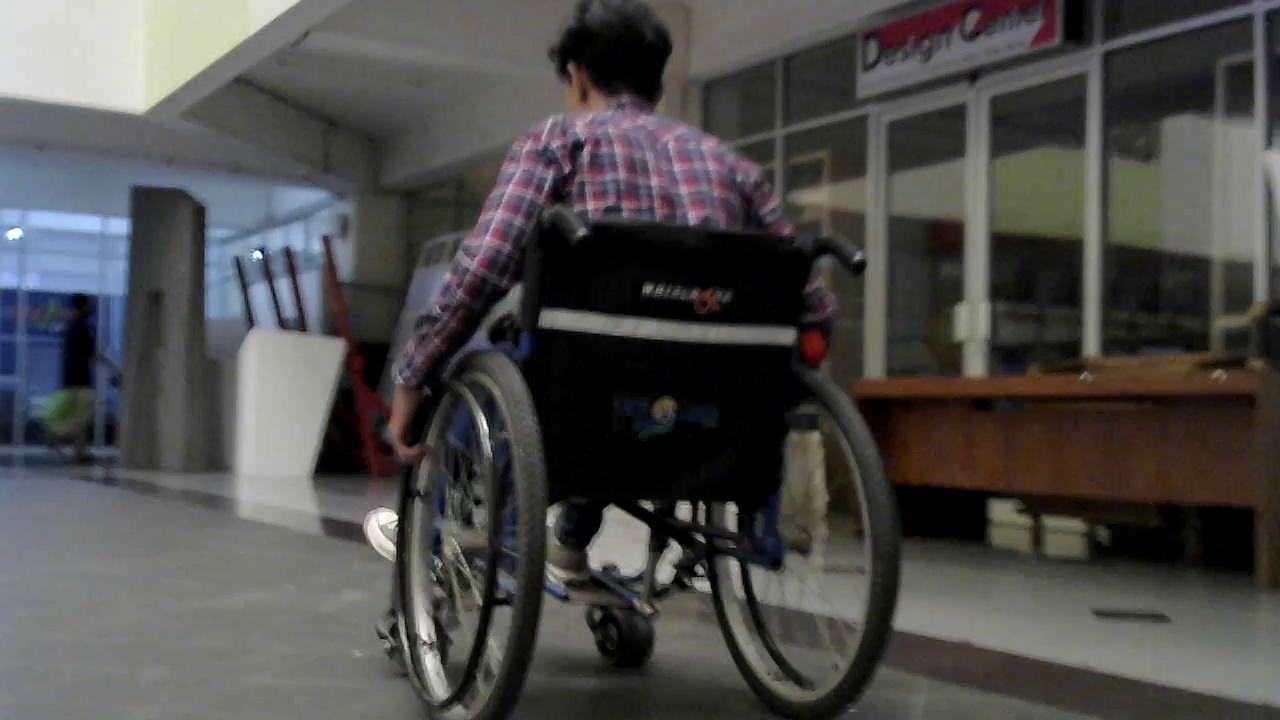person: (383, 1, 862, 604)
wheelchair: (356, 197, 934, 720)
